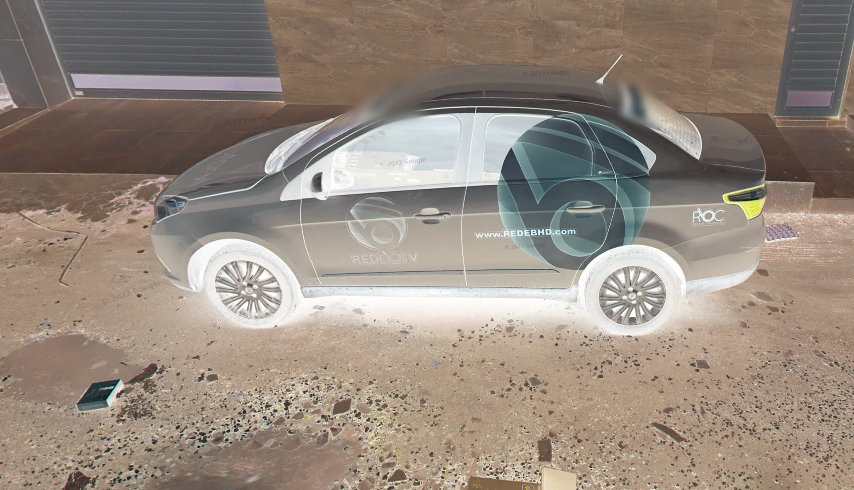car: (145, 63, 809, 365)
